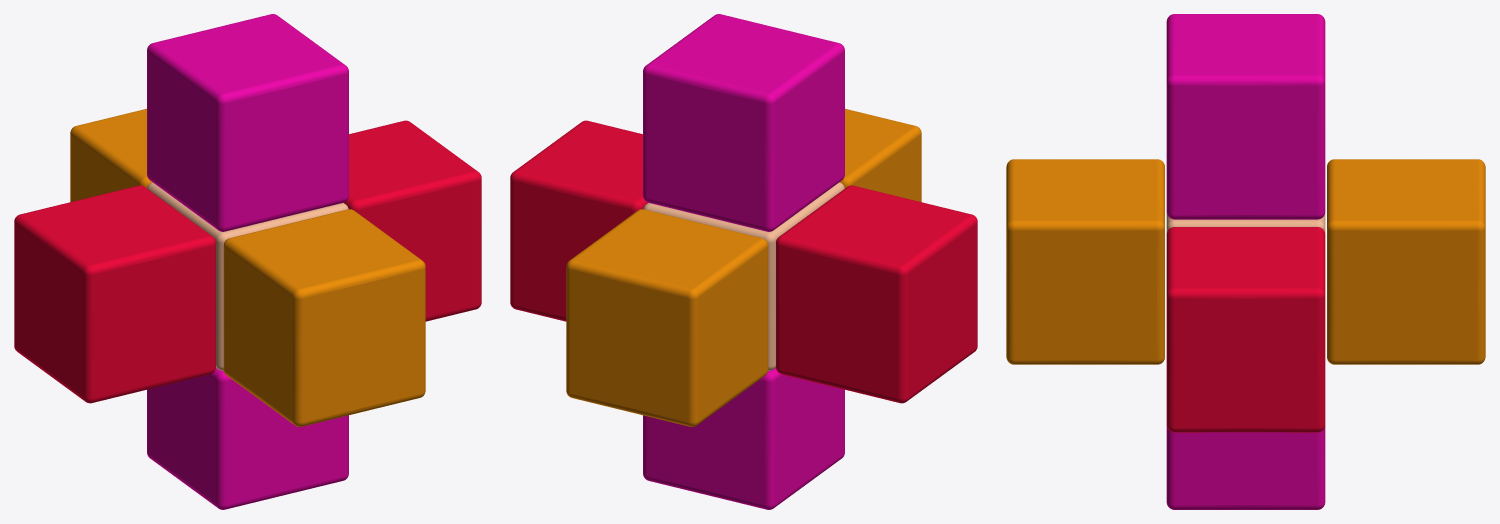
File: star.glb
The picture shows the model from 3 angles, left to right: view 1: azimuth 30°, elevation 25°; view 2: azimuth 150°, elevation 25°; view 3: azimuth 270°, elevation 25°; orthographic projection. The views are drawn at different scales.
Parts seen in each view (by area): view 1: 默认; view 2: 默认; view 3: 默认.
Boxes of the visible parts, left/top/right/bottom form: 默认: left=14, top=14, right=481, bottom=509; 默认: left=510, top=14, right=977, bottom=509; 默认: left=1006, top=14, right=1485, bottom=509.
Size of the model in its own units: 0.302 by 0.302 by 0.302.
